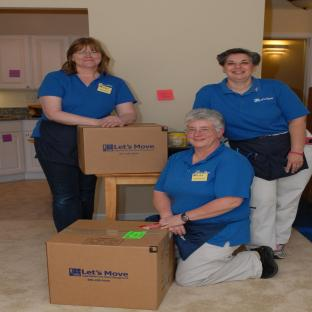Human: (153, 48, 312, 287), (33, 38, 136, 231)
